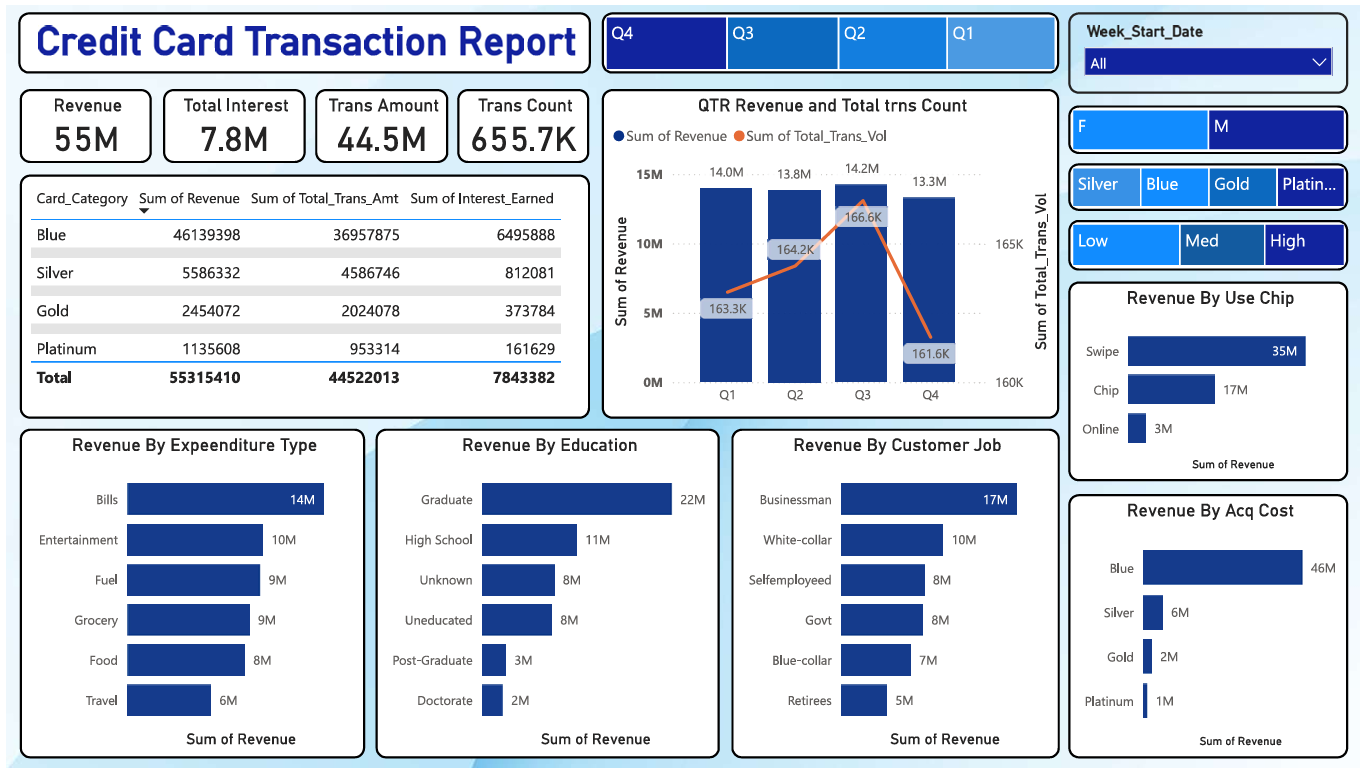

This screenshot's page, from the dashboard's own definition file:
{"tool":"powerbi","page":{"name":"CC Transaction","canvas":[1280,720],"ordinal":1},"visuals":[{"type":"lineStackedColumnComboChart","title":"QTR Revenue and Total trns Count","fields":{"Category":["ccdb credit_card.Qtr"],"Y":["Sum(ccdb credit_card.Revenue)"],"Y2":["Sum(ccdb credit_card.Total_Trans_Vol)"]},"box":[563.1,78.6,450,311.9],"z":0},{"type":"barChart","title":"Revenue By Expeenditure Type","fields":{"Y":["Sum(ccdb credit_card.Revenue)"],"Category":["ccdb credit_card.Exp Type"]},"box":[11.9,400,327.4,311.9],"z":1000},{"type":"barChart","title":"Revenue By Education","fields":{"Y":["Sum(ccdb credit_card.Revenue)"],"Category":["ccdb customer.Education_Level"]},"box":[348.8,400,328.6,311.9],"z":2000},{"type":"barChart","title":"Revenue By Customer Job","fields":{"Y":["Sum(ccdb credit_card.Revenue)"],"Category":["ccdb customer.Customer_Job"]},"box":[685.7,400,327.4,311.9],"z":3000},{"type":"barChart","title":"Revenue By Acq Cost","fields":{"Y":["Sum(ccdb credit_card.Revenue)"],"Category":["ccdb credit_card.Card_Category"]},"box":[1022.6,461.9,247.6,250],"z":4000},{"type":"barChart","title":"Revenue By Use Chip","fields":{"Y":["Sum(ccdb credit_card.Revenue)"],"Category":["ccdb credit_card.Use Chip"]},"box":[1022.6,269,247.6,181],"z":5000},{"type":"tableEx","fields":{"Values":["ccdb credit_card.Card_Category","Sum(ccdb credit_card.Revenue)","Sum(ccdb credit_card.Total_Trans_Amt)","Sum(ccdb credit_card.Interest_Earned)"]},"box":[11.9,159.5,540.5,231],"z":6000},{"type":"card","title":"Revenue ","fields":{"Values":["Sum(ccdb credit_card.Revenue)"]},"box":[11.9,78.6,125,70.2],"z":7000},{"type":"card","title":"Total Interest","fields":{"Values":["Sum(ccdb credit_card.Interest_Earned)"]},"box":[147.6,78.6,134.5,70.2],"z":8000},{"type":"card","title":"Trans Amount","fields":{"Values":["Sum(ccdb credit_card.Total_Trans_Amt)"]},"box":[291.7,78.6,126.2,70.2],"z":9000},{"type":"card","title":"Trans Count","fields":{"Values":["Sum(ccdb credit_card.Total_Trans_Vol)"]},"box":[426.2,78.6,125,70.2],"z":10000},{"type":"slicer","fields":{"Values":["ccdb credit_card.Week_Start_Date"]},"box":[1022.6,6,247.6,77.4],"z":11000},{"type":"treemap","fields":{"Group":["ccdb credit_card.Qtr"],"Values":["Avg(ccdb credit_card.Client_Num)"]},"box":[563.1,6,450,58.3],"z":12000},{"type":"treemap","fields":{"Group":["ccdb customer.Gender"],"Values":["Avg(ccdb credit_card.Client_Num)"]},"box":[1022.6,94,247.6,46.4],"z":13000},{"type":"treemap","fields":{"Group":["ccdb credit_card.Card_Category"],"Values":["Avg(ccdb credit_card.Client_Num)"]},"box":[1022.6,148.8,247.6,45.2],"z":14000},{"type":"treemap","fields":{"Group":["ccdb customer.IncomeGroup"],"Values":["CountNonNull(ccdb credit_card.Client_Num)"]},"box":[1022.6,202.4,247.6,47.6],"z":15000},{"type":"textbox","title":"Credit Card Transaction Report","box":[10.7,6,541.7,58.3],"z":16000}]}

Visuals, with their boxes in screenshot pixels (x1, y1, x2, y2), scaled from the page's 1280x720 canvas onto the 1363x771 screenshot:
"QTR Revenue and Total trns Count" lineStackedColumnComboChart: BBox(600, 84, 1079, 418)
"Revenue By Expeenditure Type" barChart: BBox(13, 428, 361, 762)
"Revenue By Education" barChart: BBox(371, 428, 721, 762)
"Revenue By Customer Job" barChart: BBox(730, 428, 1079, 762)
"Revenue By Acq Cost" barChart: BBox(1089, 495, 1353, 762)
"Revenue By Use Chip" barChart: BBox(1089, 288, 1353, 482)
tableEx - ccdb credit_card.Card_Category x Sum(ccdb credit_card.Revenue): BBox(13, 171, 588, 418)
"Revenue " card: BBox(13, 84, 146, 159)
"Total Interest" card: BBox(157, 84, 300, 159)
"Trans Amount" card: BBox(311, 84, 445, 159)
"Trans Count" card: BBox(454, 84, 587, 159)
slicer - ccdb credit_card.Week_Start_Date: BBox(1089, 6, 1353, 89)
treemap - ccdb credit_card.Qtr x Avg(ccdb credit_card.Client_Num): BBox(600, 6, 1079, 69)
treemap - ccdb customer.Gender x Avg(ccdb credit_card.Client_Num): BBox(1089, 101, 1353, 150)
treemap - ccdb credit_card.Card_Category x Avg(ccdb credit_card.Client_Num): BBox(1089, 159, 1353, 208)
treemap - ccdb customer.IncomeGroup x CountNonNull(ccdb credit_card.Client_Num): BBox(1089, 217, 1353, 268)
"Credit Card Transaction Report" textbox: BBox(11, 6, 588, 69)
